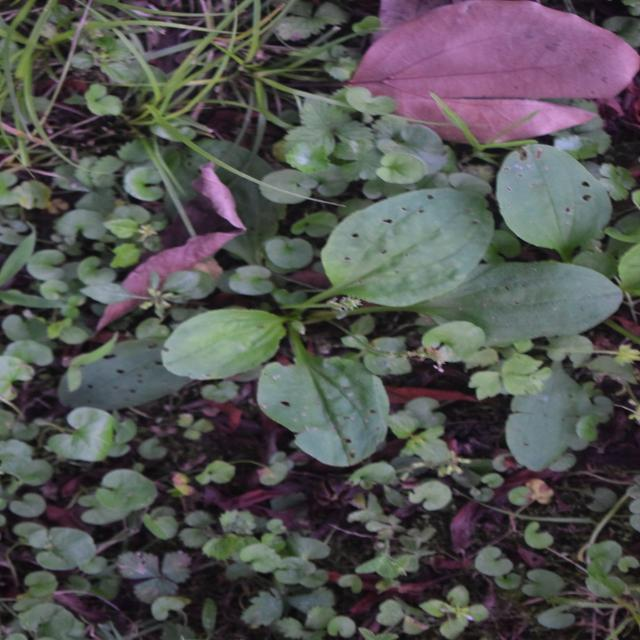plantain: (191, 115, 477, 608)
